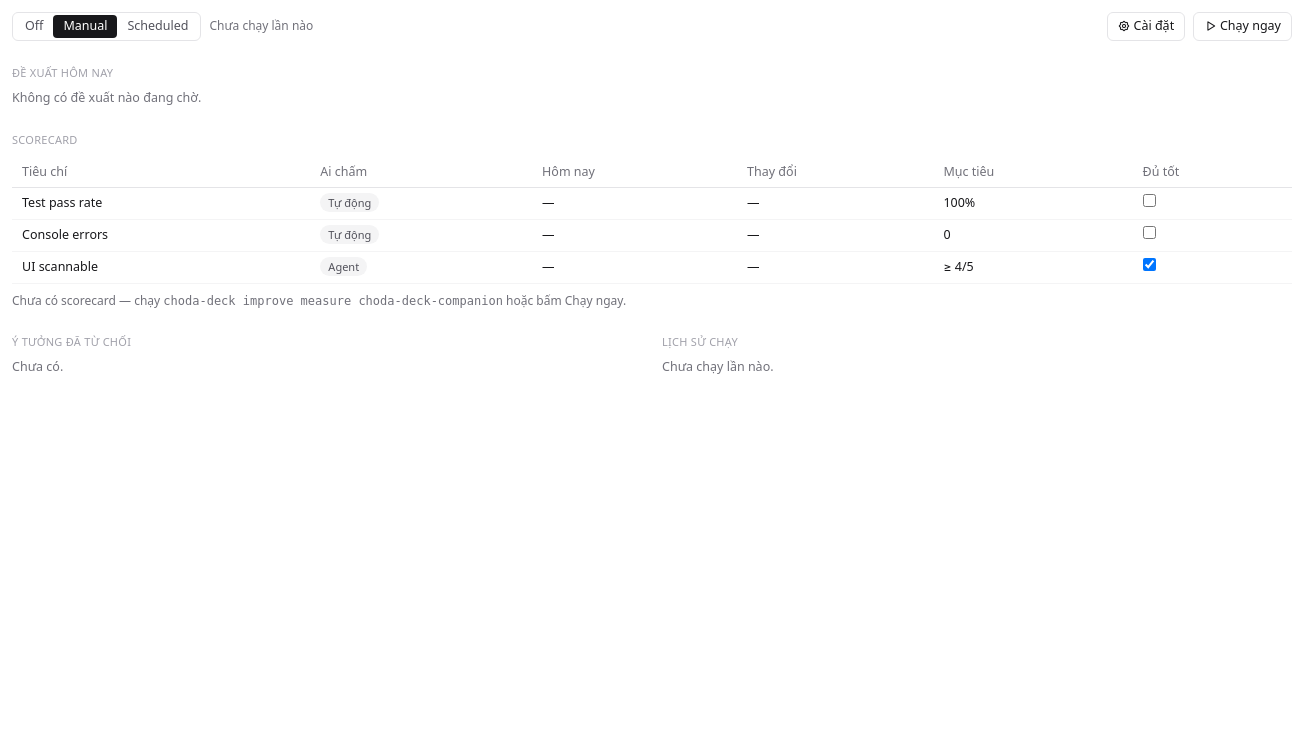
it: ImproveSettings (TASK-2360) › an error for a field no input owns is listed at the top, not dropped
Step 1. Click the button with test id "improve-open-settings" → (1146, 26), box [1107,12,1185,41]
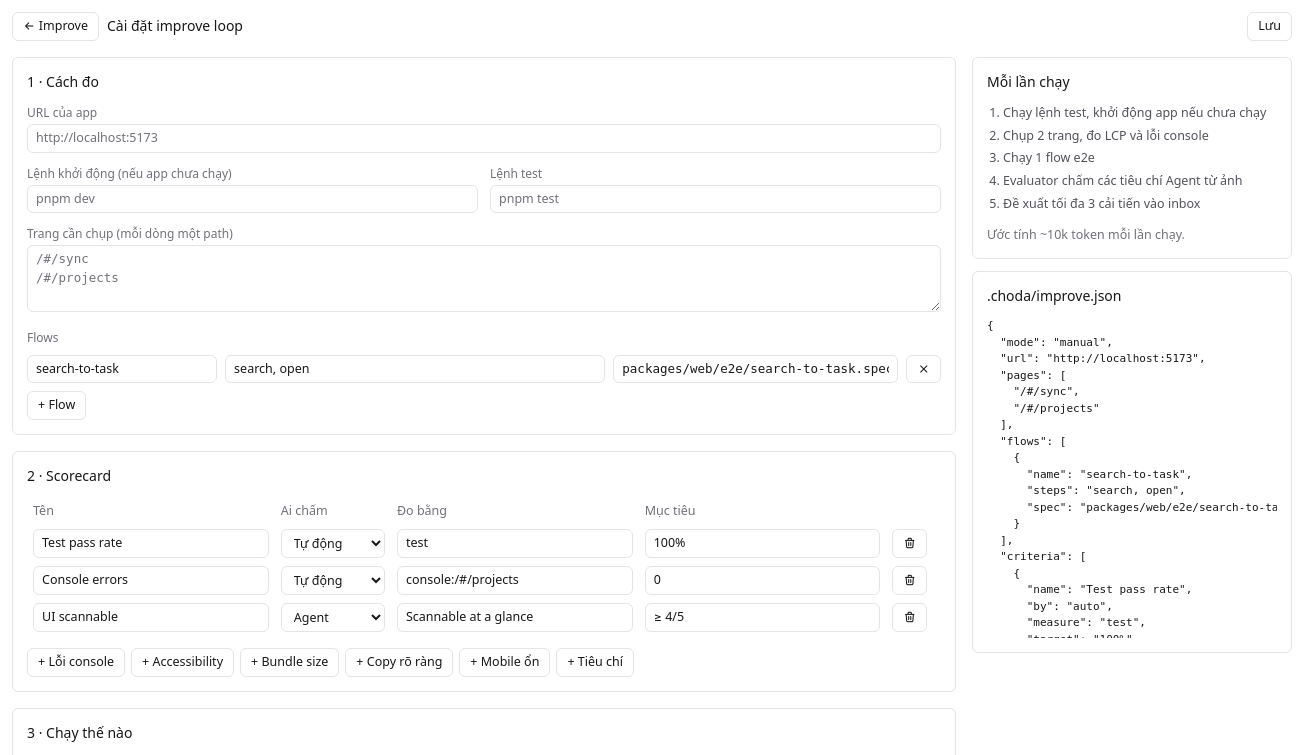
Step 2. Click the button with test id "improve-settings-save" → (1270, 26), box [1247,12,1292,41]
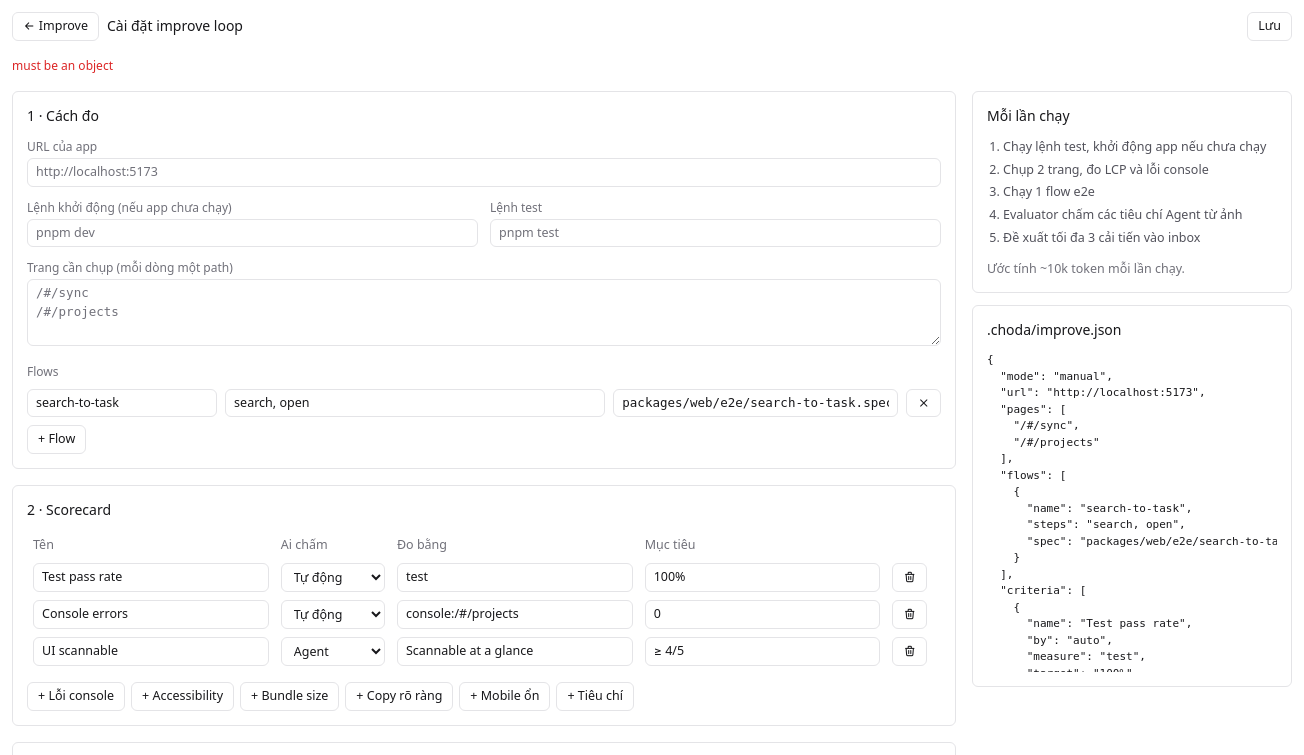
Expected: the message with test id "improve-settings-errors" reads "must be an object", [12,57,113,74]
